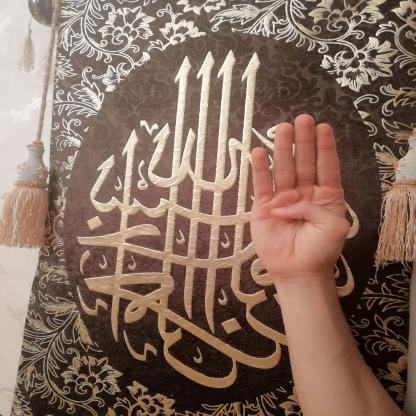KAAF: (231, 107, 361, 289)
